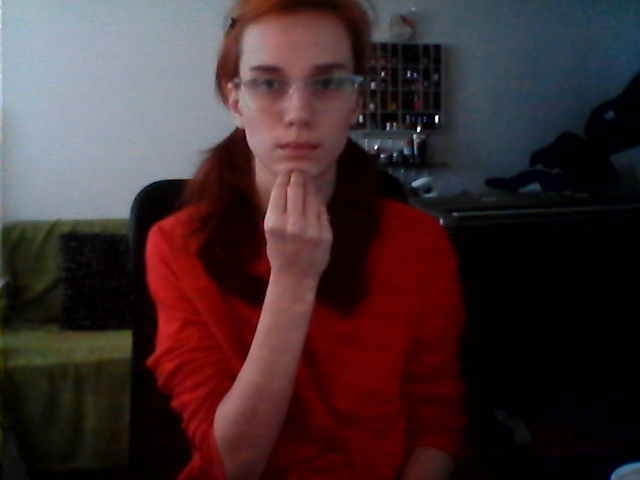c: (257, 140, 342, 269)
